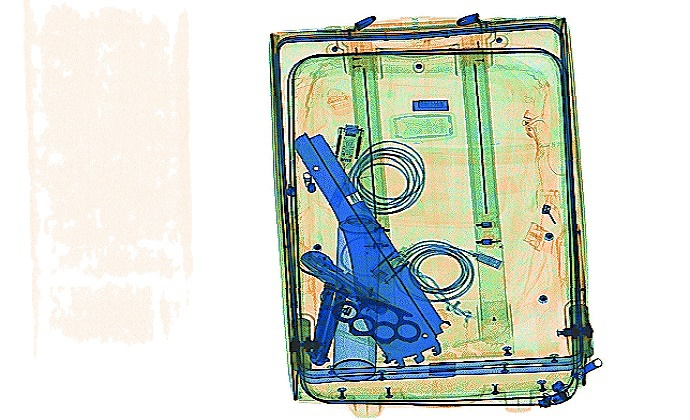knife: (292, 244, 392, 315), (305, 276, 347, 365)
pressure: (330, 206, 383, 380)
